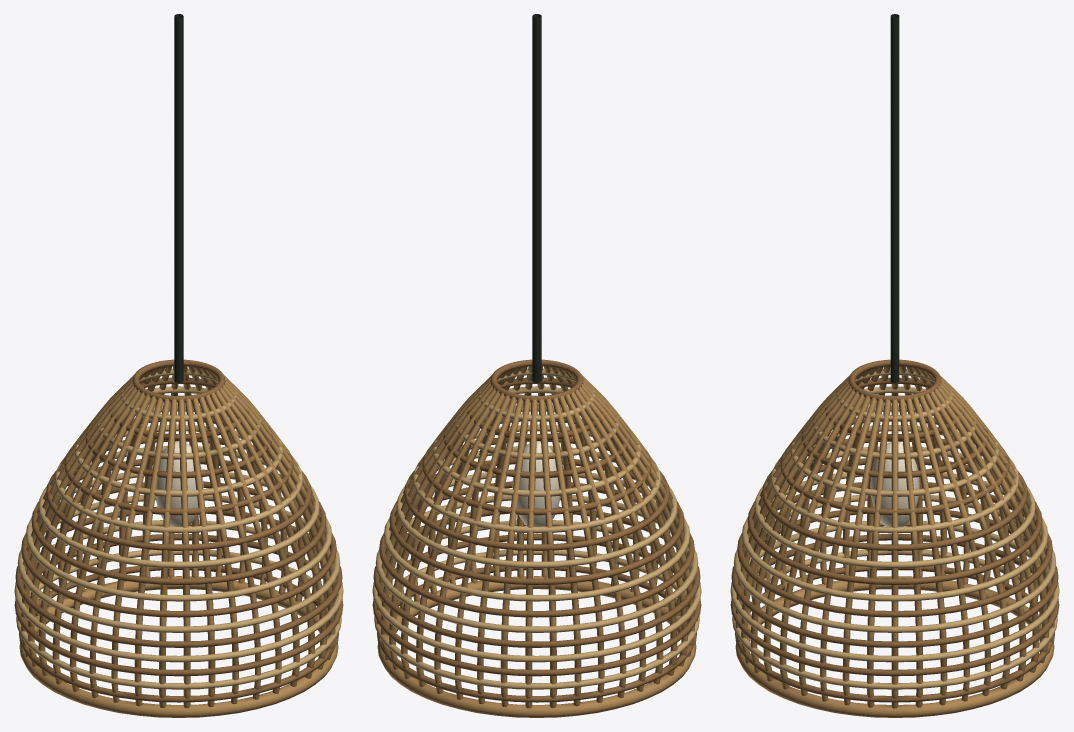
File: pendant.glb
3 renders of one model, left to right at view 1: azimuth 30°, elevation 25°; view 2: azimuth 150°, elevation 25°; view 3: azimuth 270°, elevation 25°, orthographic.
Visible parts, largest first — view 1: Atelier_Pendant; view 2: Atelier_Pendant; view 3: Atelier_Pendant.
Boxes of the visible parts, box(x1,y1,x2,y2) form: Atelier_Pendant: box(14, 14, 343, 717); Atelier_Pendant: box(372, 14, 701, 717); Atelier_Pendant: box(730, 14, 1059, 717).
Size of the model in its own units: 0.5718 by 1.22 by 0.5718.
